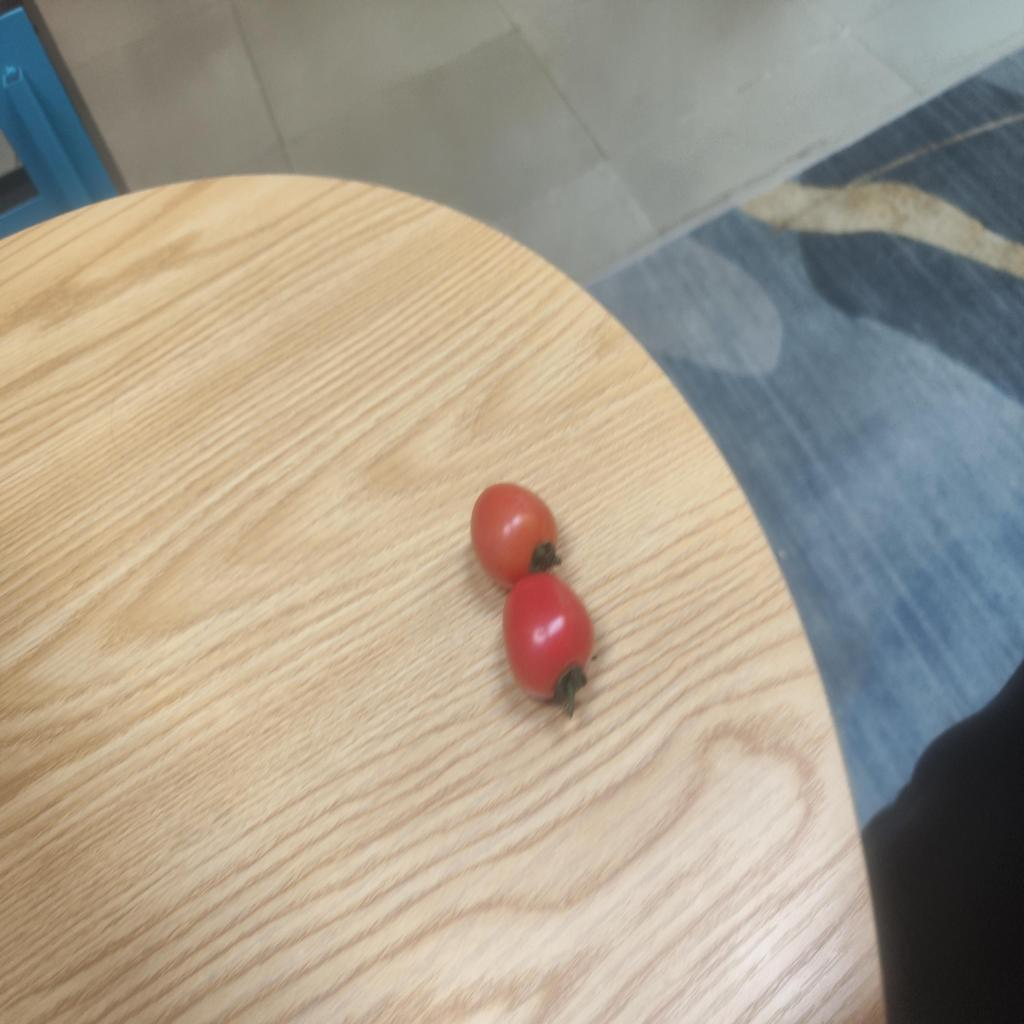tomato: (490, 570, 612, 731), (460, 477, 567, 586)
